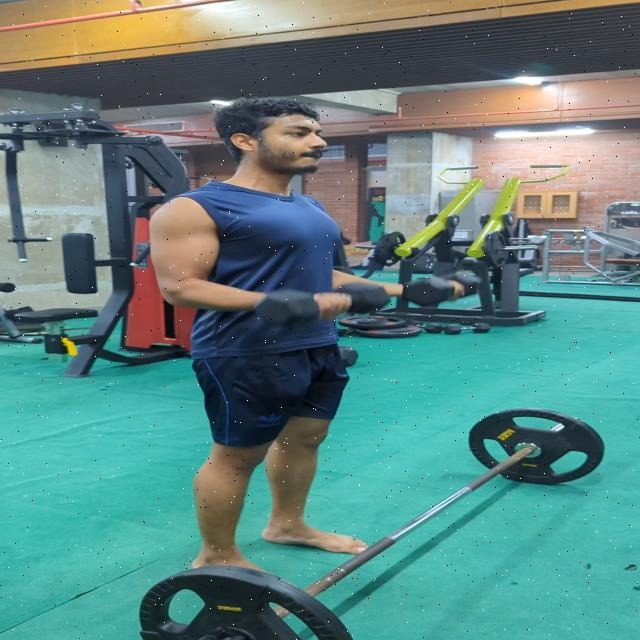Normal_DumbbellBicepCurls: (146, 98, 476, 572)
